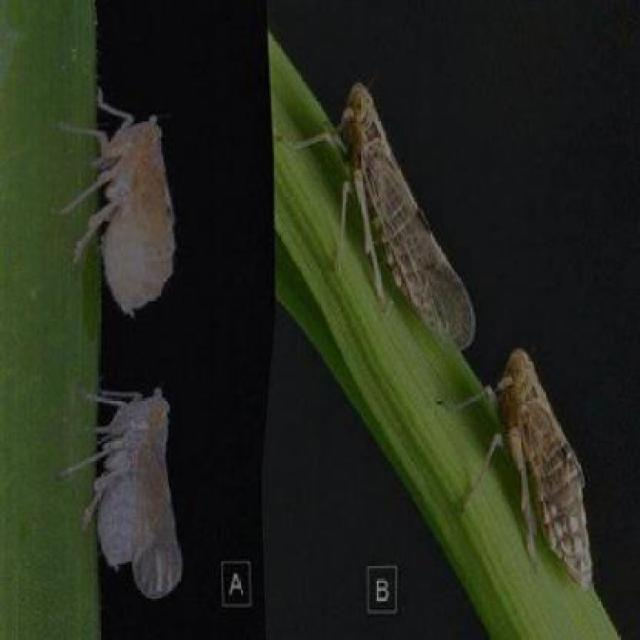brown-planthopper: (333, 76, 472, 347), (489, 348, 594, 589), (89, 375, 182, 596), (94, 95, 178, 318)
